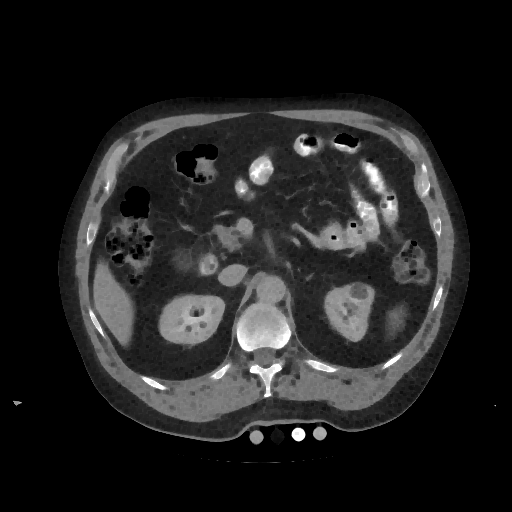Lesion: (346, 277, 371, 301)
